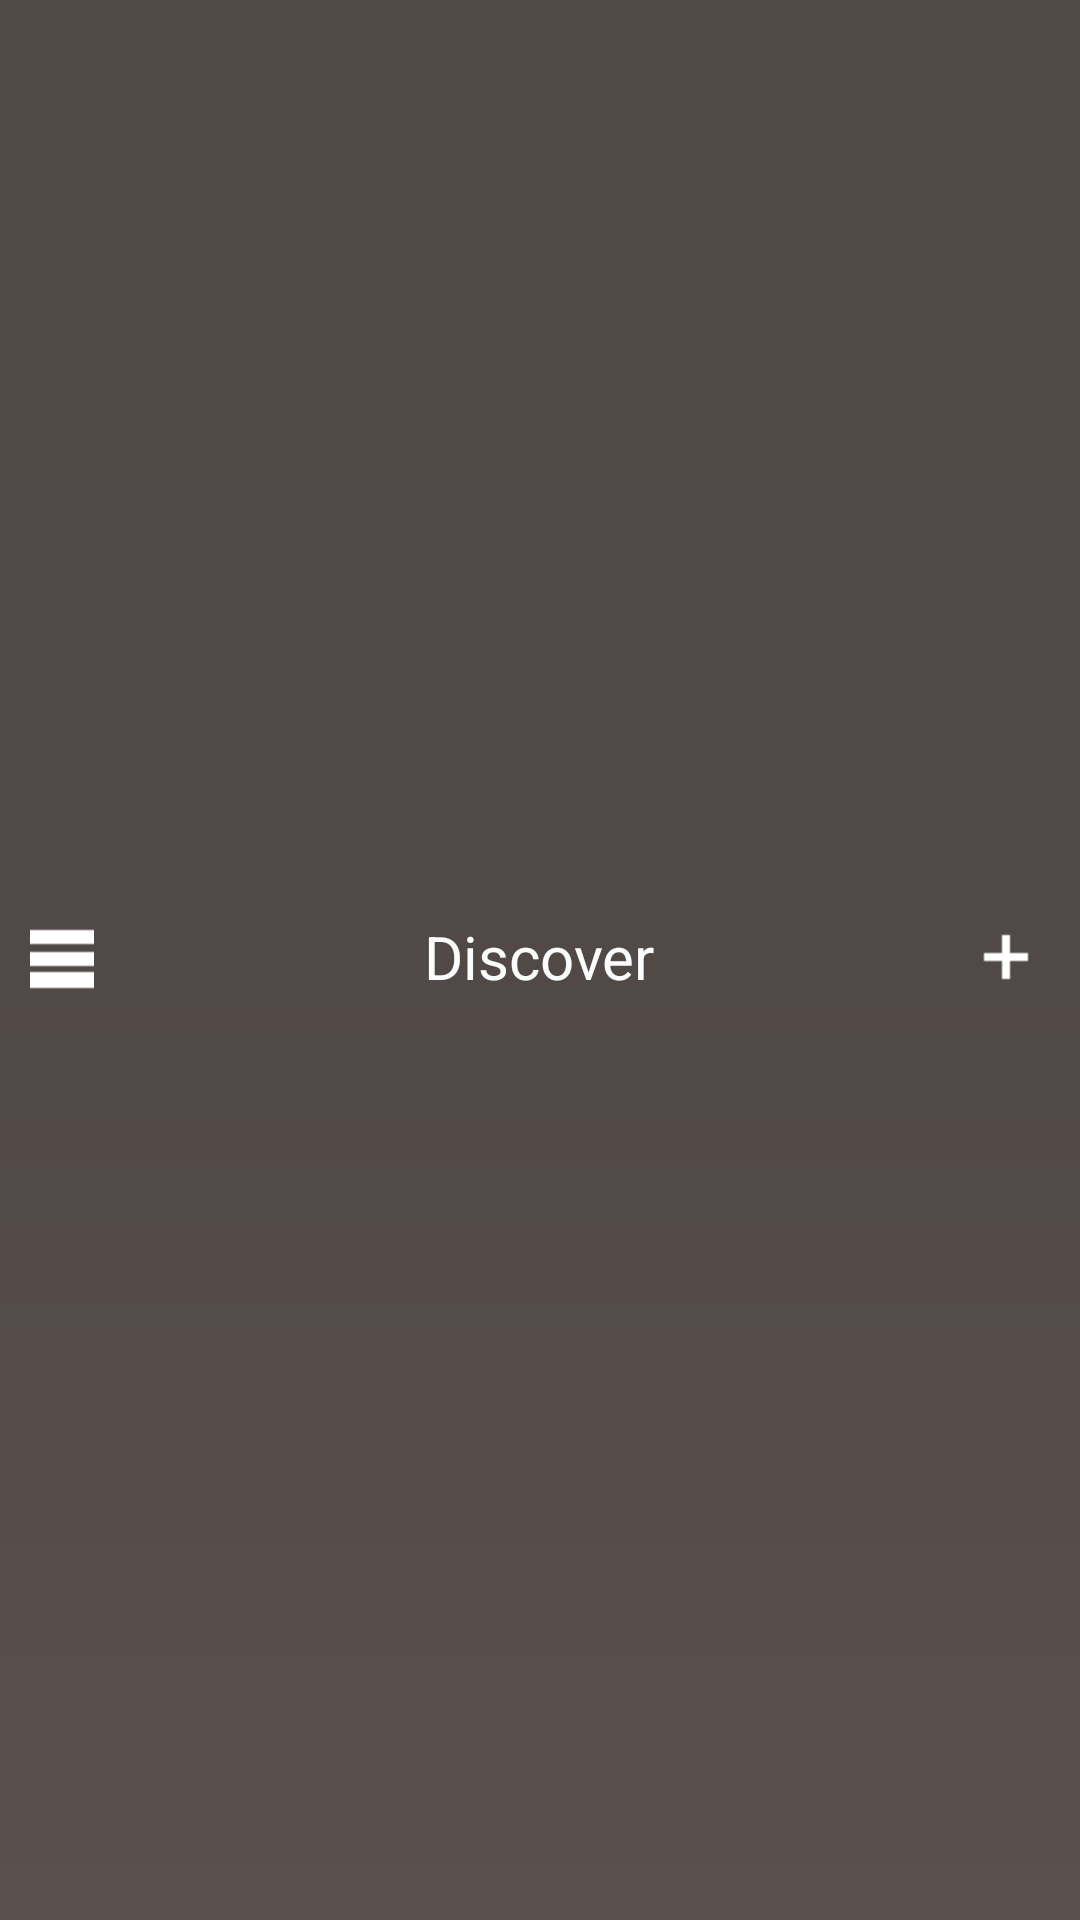

Named icons in this screenshot (1080 × 1920) and their bounding boxes, (x1, y1, x2, y2):
ab plus: (983, 934, 1029, 980)
sliding menu navigation: (30, 929, 94, 989)
